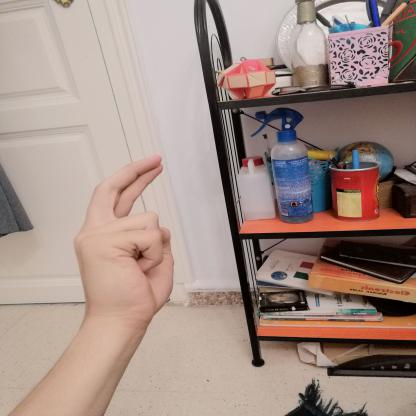ZAY: (63, 146, 181, 329)
